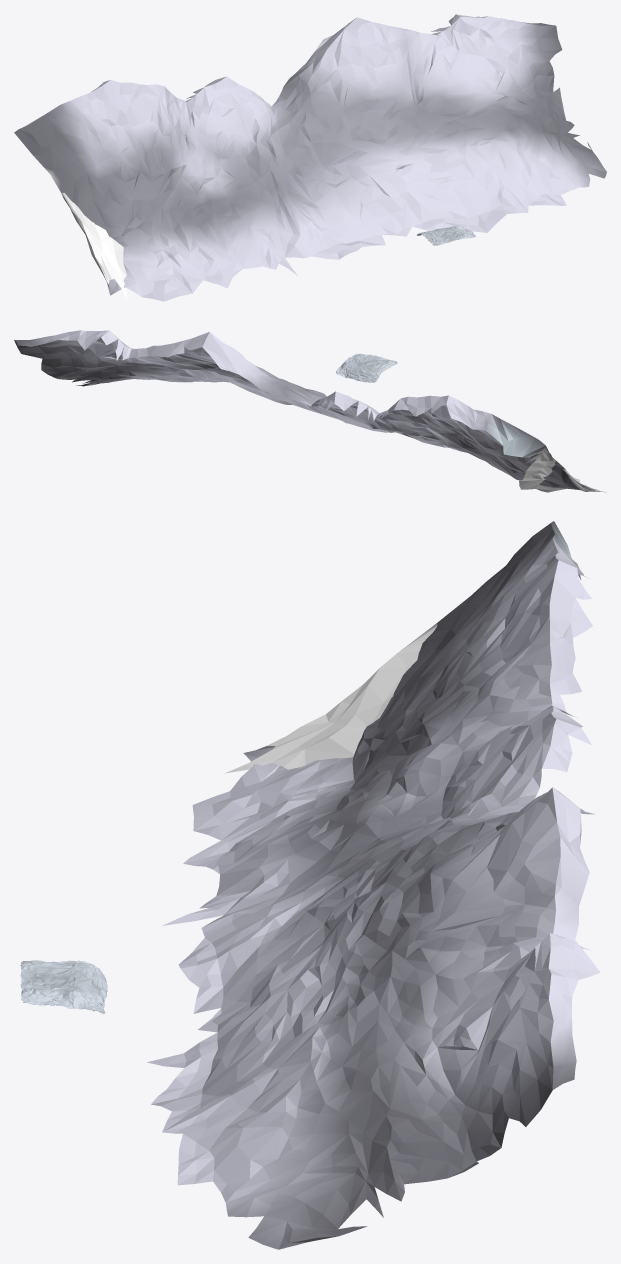
File: main_menu_base_model.fbx
3 renders of one model, top to bottom at view 1: azimuth 30°, elevation 25°; view 2: azimuth 150°, elevation 25°; view 3: azimuth 270°, elevation 25°, orthographic. The views are drawn at different scales.
Parts seen in each view (by area): view 1: Mountains, NearTerrain; view 2: Mountains, NearTerrain; view 3: Mountains, NearTerrain.
Part boxes in pixels (x1=…): Mountains: x1=14, y1=14, x2=606, y2=301; NearTerrain: x1=416, y1=225, x2=476, y2=245; Mountains: x1=14, y1=330, x2=606, y2=492; NearTerrain: x1=336, y1=353, x2=397, y2=382; Mountains: x1=147, y1=521, x2=600, y2=1249; NearTerrain: x1=20, y1=960, x2=107, y2=1013.
Bounding box in the file's own units: 126973 × 33144 × 59945.
2 materials, 2 textured.
